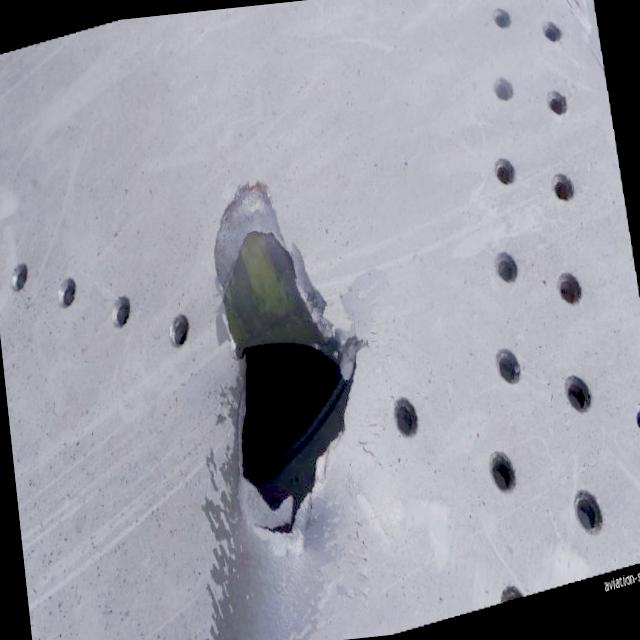crack: (195, 166, 384, 548)
